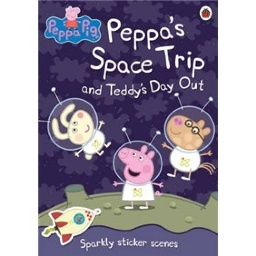Peppa: (112, 145, 166, 211)
